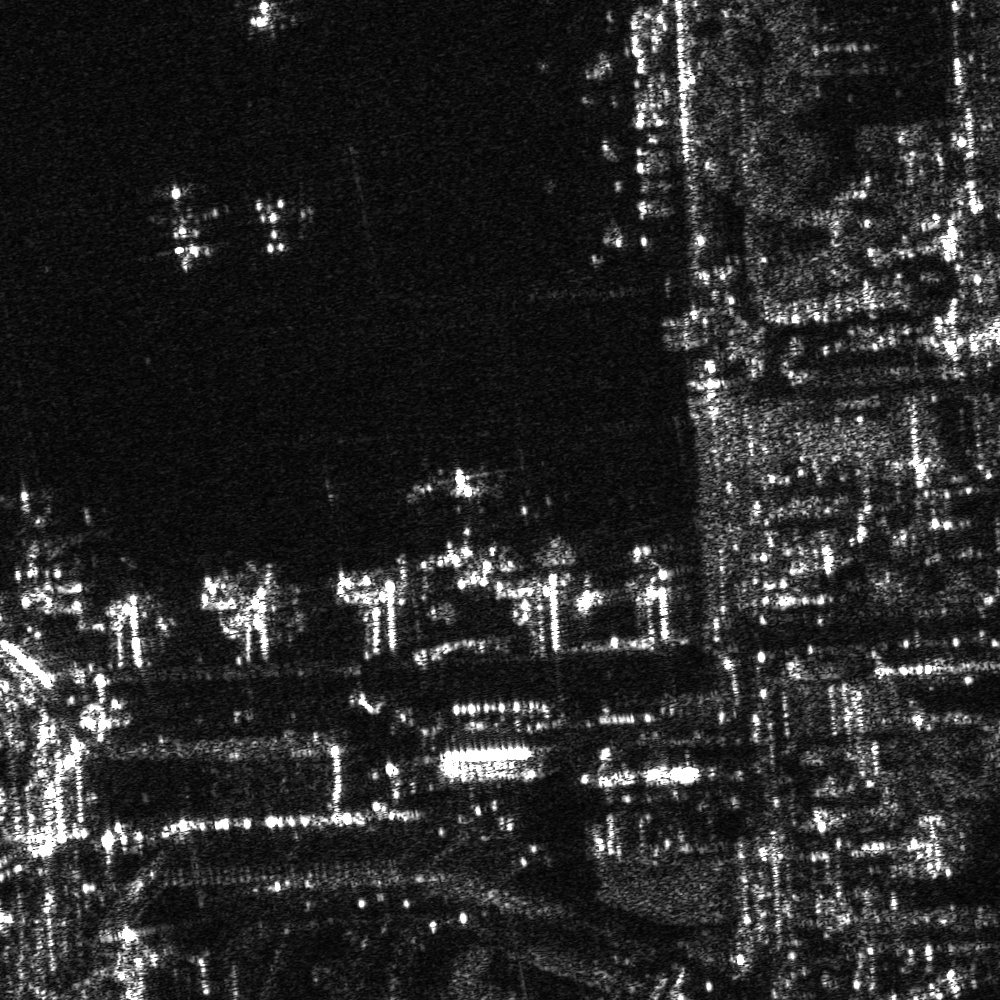A220: (243, 187, 313, 258)
Boeing787: (413, 452, 507, 511)
other: (136, 182, 234, 276)
